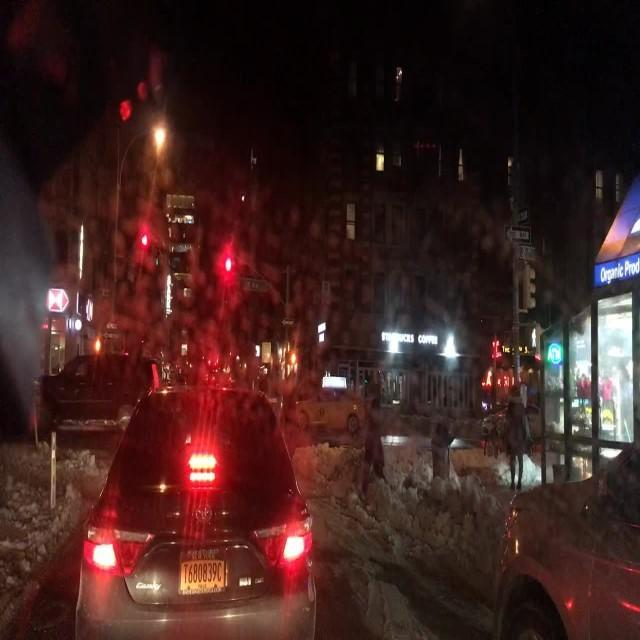normal: (76, 367, 330, 640)
